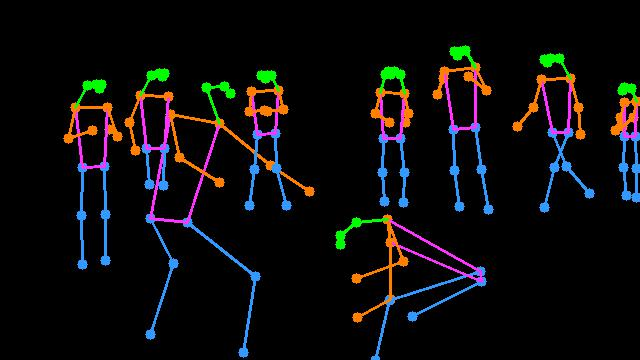normal: (512, 46, 596, 223), (59, 74, 124, 284), (432, 34, 502, 223), (355, 61, 426, 215), (235, 61, 297, 219), (123, 59, 186, 200)
